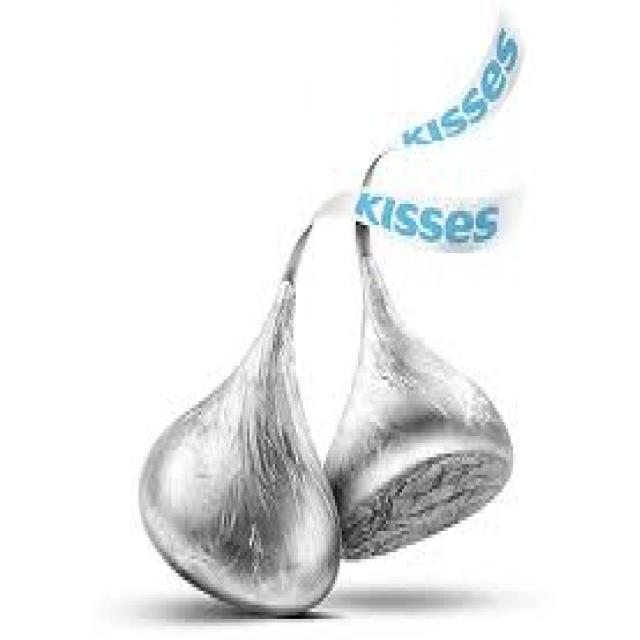kisses: (123, 207, 352, 622), (320, 181, 529, 581)
